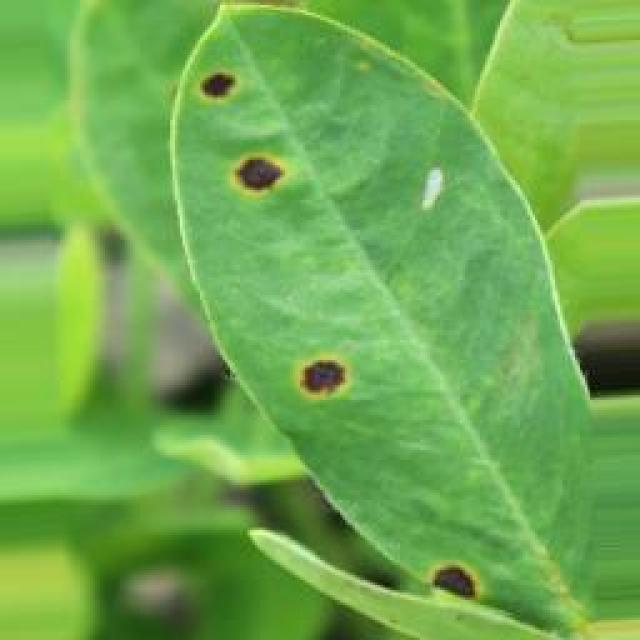Yellowish: (194, 61, 297, 204), (253, 332, 347, 414), (416, 528, 494, 606)
